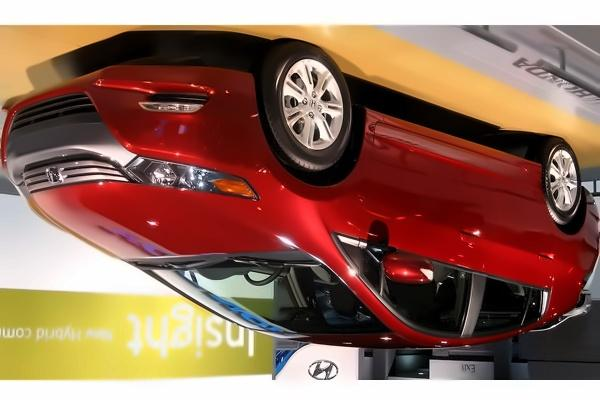Car hood: (18, 181, 306, 256)
Driver-s door - -F-R-: (353, 126, 483, 342)
Fender - -F-R-: (244, 105, 377, 255)
Fender - -R-R-: (539, 162, 584, 278)
Front bumper: (0, 61, 280, 181)
Headlight - -R-: (118, 150, 260, 204)
Passenger-s door - -R-R-: (466, 147, 561, 344)
Rear bumper: (578, 181, 600, 251)
Side bumper - -R-: (359, 102, 552, 192)
Side mirror - -R-: (373, 245, 441, 287)
